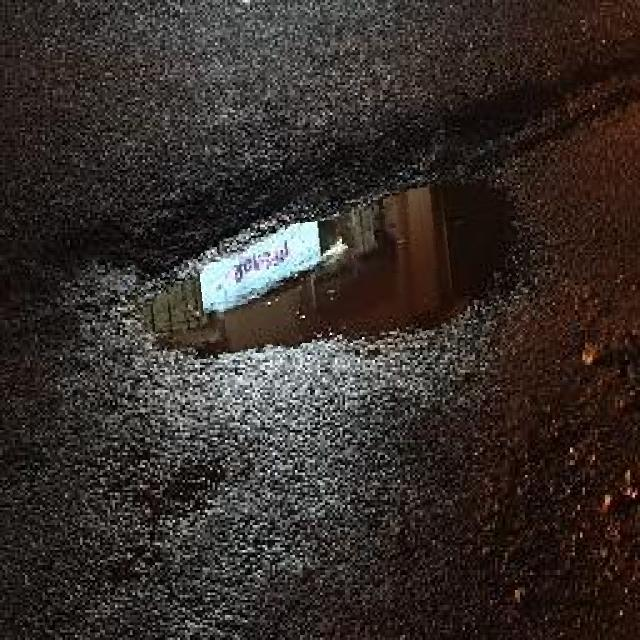puddle: (134, 183, 531, 360)
